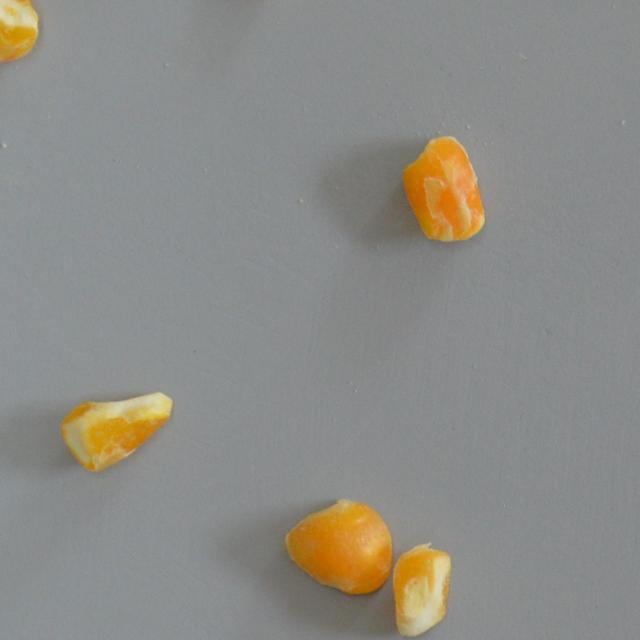dañado: (278, 490, 399, 602), (399, 130, 490, 246)
pelicula: (56, 382, 173, 474), (391, 538, 448, 637), (0, 0, 41, 68)
